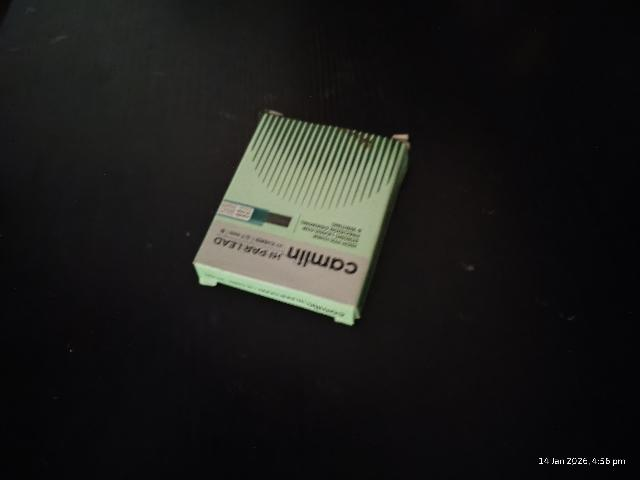camlin lids: (234, 122, 360, 311)
